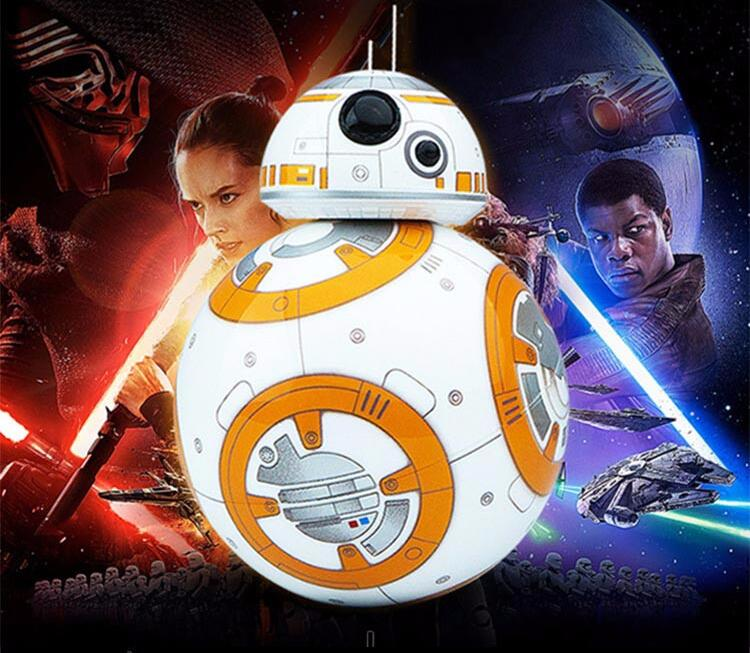bb8: (173, 69, 570, 606)
